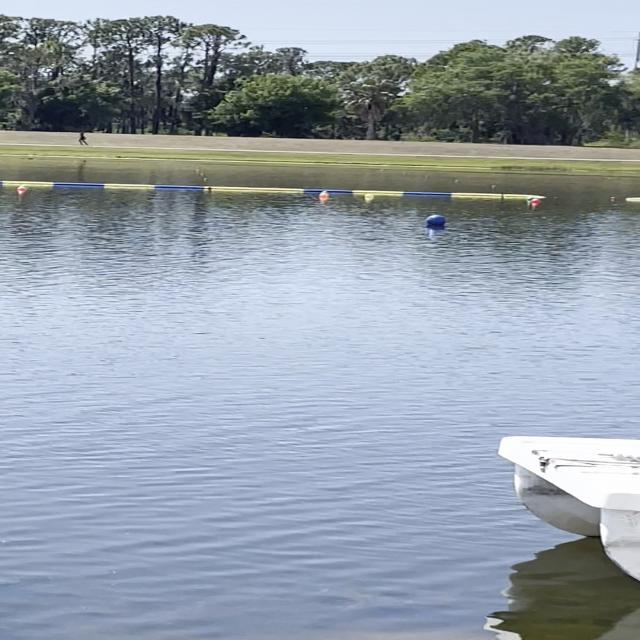buoy: (415, 212, 457, 230), (361, 192, 380, 202), (8, 186, 32, 193), (527, 198, 545, 205), (315, 192, 330, 198)
